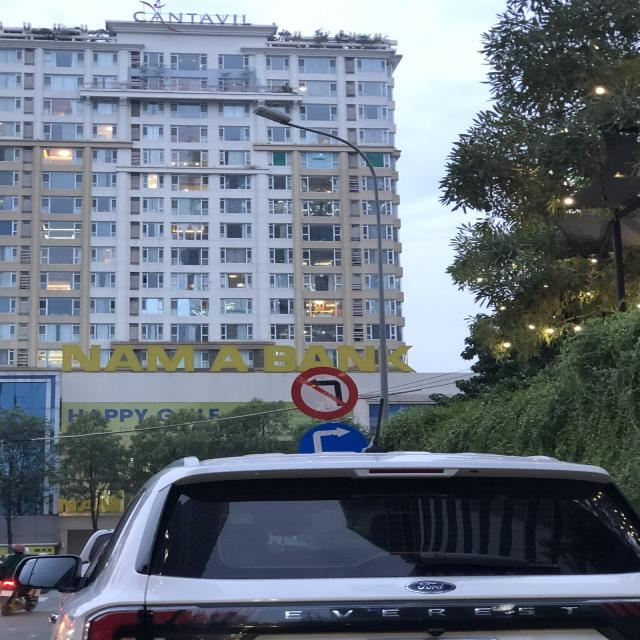Bien bao cam re trai: (282, 363, 374, 418)
